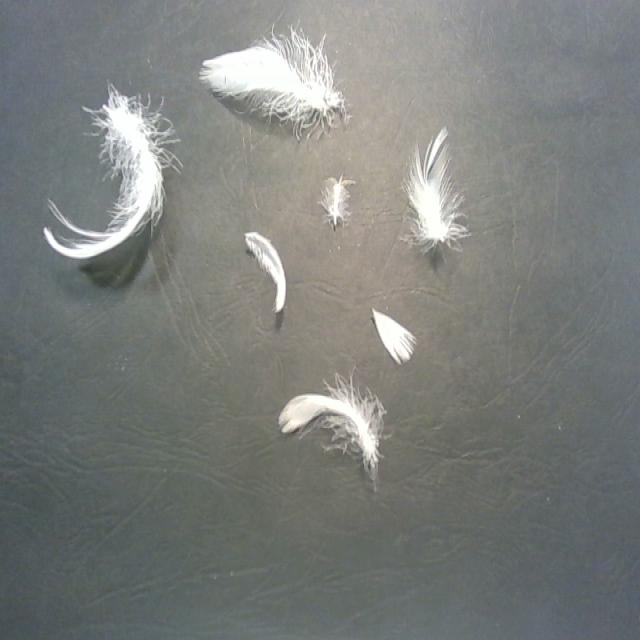feather: (41, 76, 176, 257), (202, 28, 351, 137), (278, 365, 384, 483), (400, 124, 467, 256), (244, 229, 290, 316), (368, 302, 416, 366), (322, 164, 352, 227)
